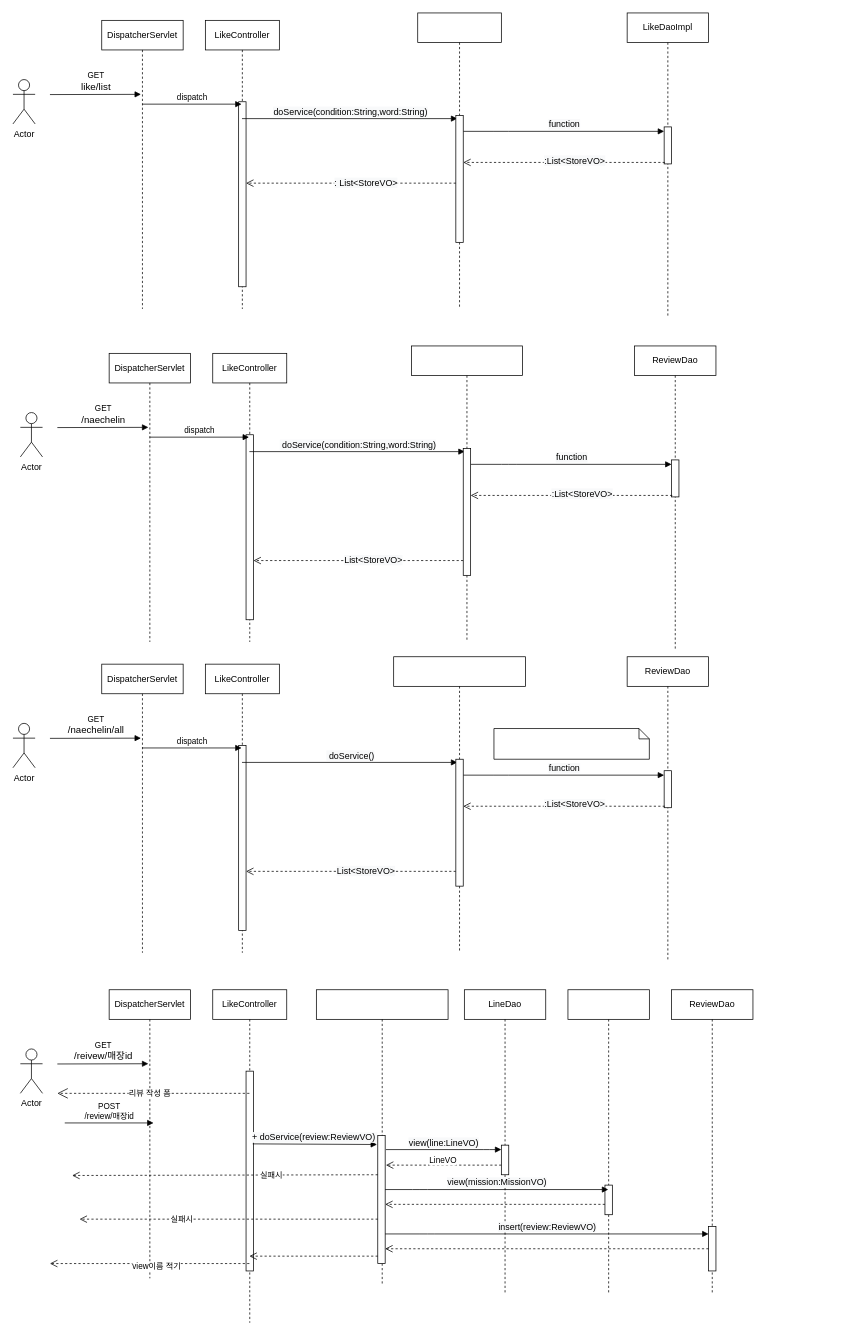
The diagram is 862 pixels wide and 1336 high, and some of its shapes have lost their labels. Here are the shapes that lost their labels. From the top down, the box of each, then its label:
(417, 12, 501, 309): LikeListServiceImpl
(411, 345, 522, 642): NaechelinViewListService
(493, 728, 649, 759): 전달인자가 null 일 경우 모든 사람의 평균 점수가 5점 이상인 매장을 전부 가져온다
(393, 656, 525, 953): NaechelinGuideViewListService
(316, 989, 448, 1286): ReviewInsertServiceImpl
(567, 989, 649, 1293): MissionDao
